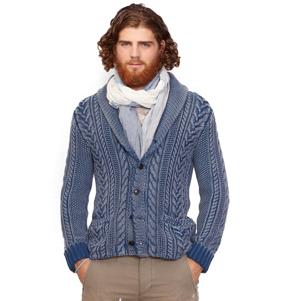C_cardigan sweater: (47, 69, 231, 268)
